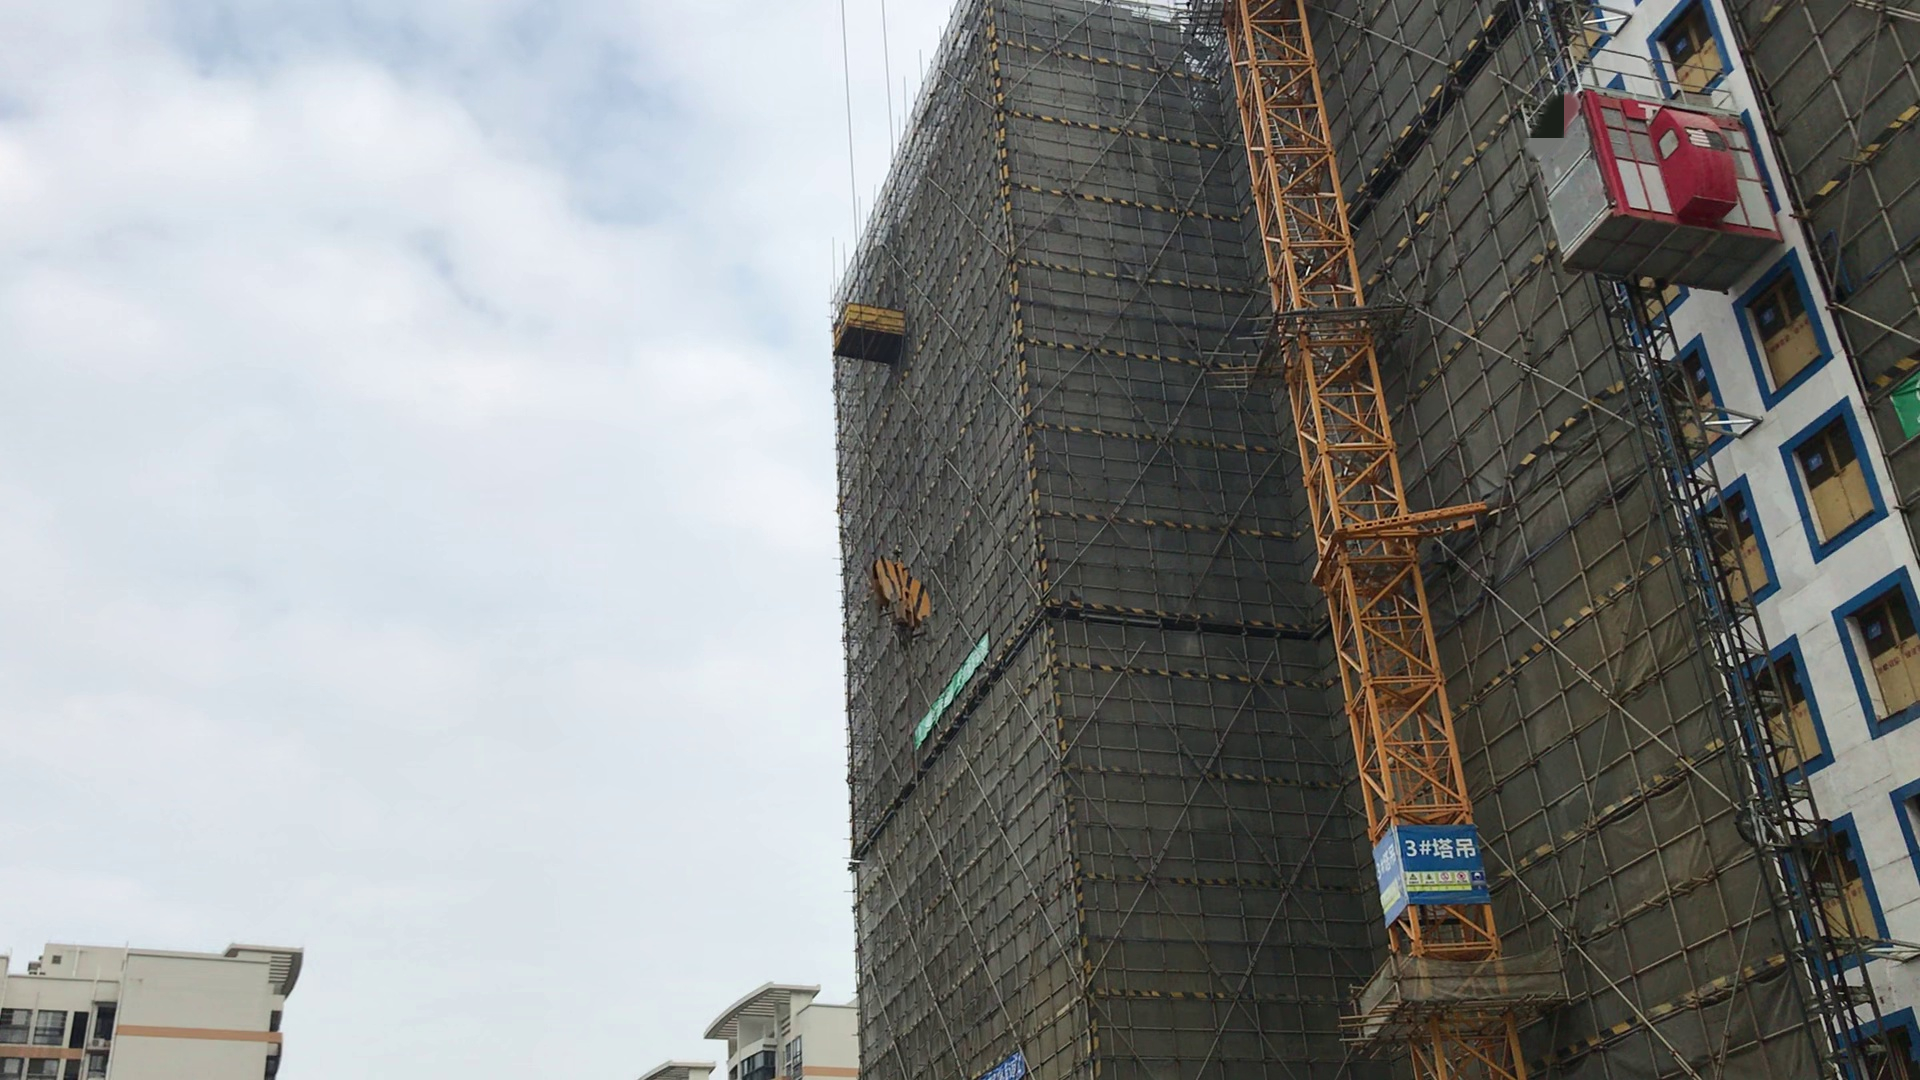fence: (913, 632, 996, 742), (1399, 837, 1481, 901), (1378, 839, 1400, 913), (978, 1050, 1023, 1080)
hook: (870, 555, 936, 646)
